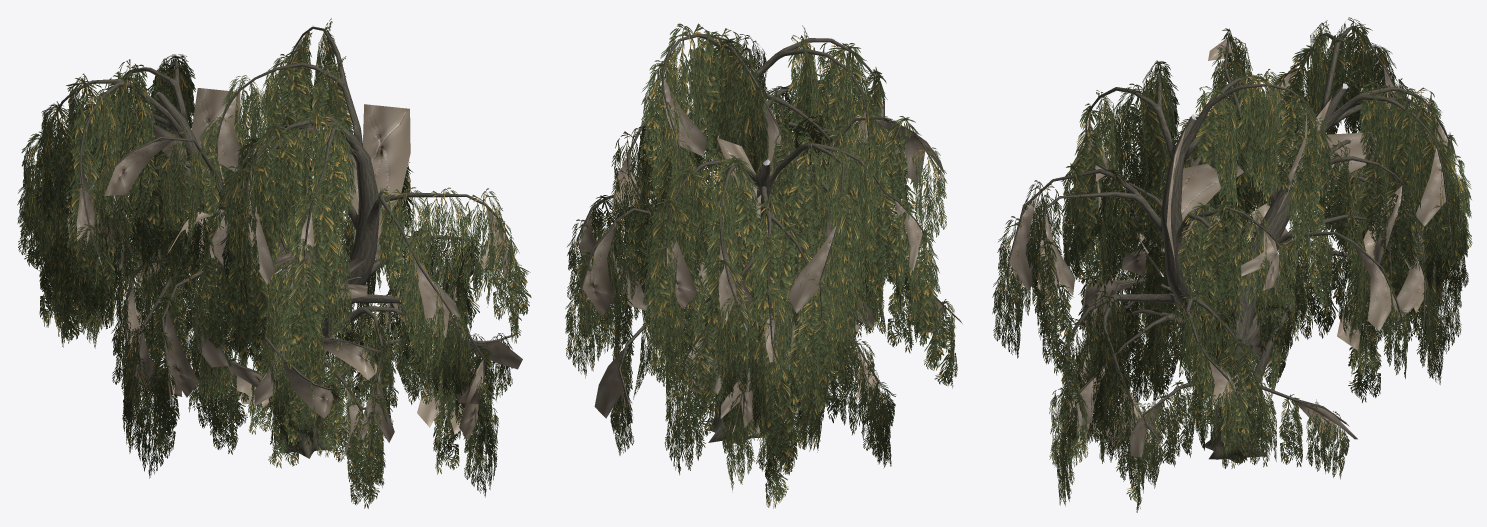
Rendered from MarshWillow_9.fbx.
3 renders of one model, left to right at view 1: azimuth 30°, elevation 25°; view 2: azimuth 150°, elevation 25°; view 3: azimuth 270°, elevation 25°, orthographic. The views are drawn at different scales.
Visible parts, largest first — view 1: MarshWillow_9; view 2: MarshWillow_9; view 3: MarshWillow_9.
Boxes of the visible parts, <box> form: MarshWillow_9: <box>17,18,531,508</box>; MarshWillow_9: <box>565,23,962,508</box>; MarshWillow_9: <box>992,17,1472,512</box>.
Size of the model in its own units: 34.46 by 35.74 by 36.56.
